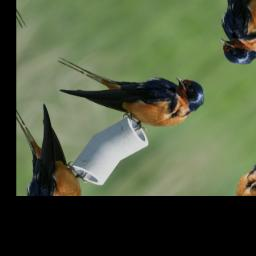Swallow: (42, 5, 215, 162)
